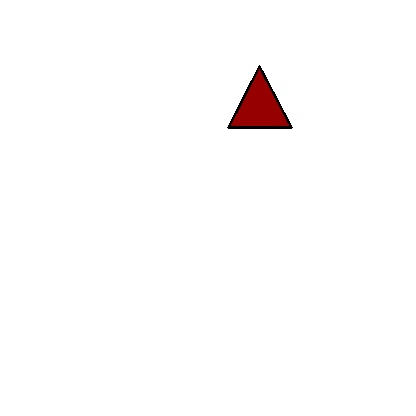triangle: (228, 66, 291, 127)
